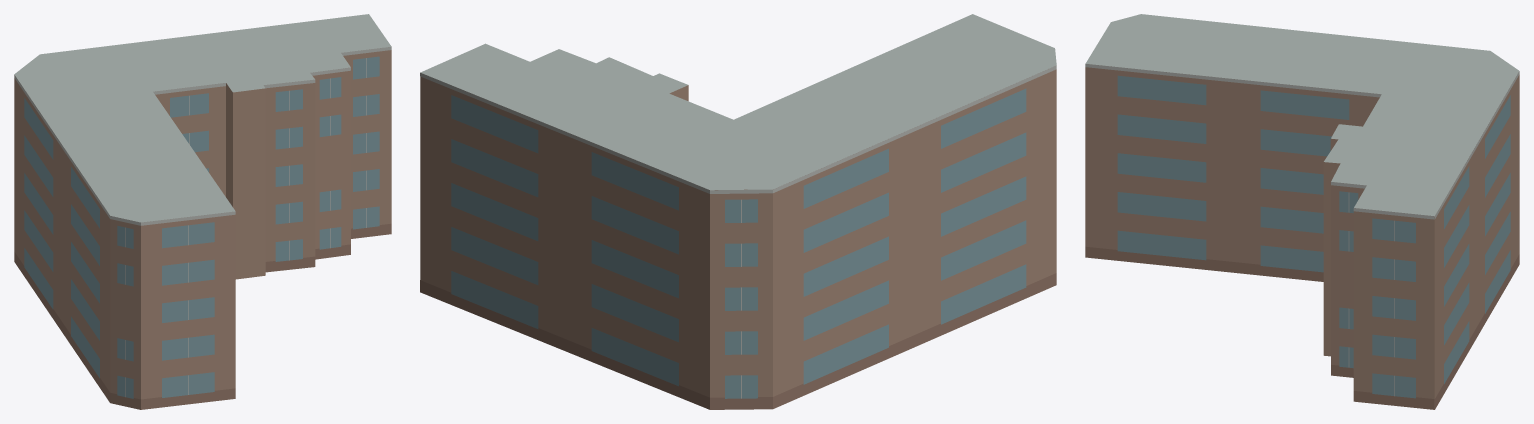
File: survey-upis-32871060.glb
3 renders of one model, left to right at view 1: azimuth 30°, elevation 25°; view 2: azimuth 150°, elevation 25°; view 3: azimuth 270°, elevation 25°, orthographic. The views are drawn at different scales.
Visible parts, largest first — view 1: survey-upis-32871060.tmp; view 2: survey-upis-32871060.tmp; view 3: survey-upis-32871060.tmp.
Part boxes in pixels (x1=…): survey-upis-32871060.tmp: x1=14, y1=14, x2=391, y2=409; survey-upis-32871060.tmp: x1=420, y1=14, x2=1056, y2=409; survey-upis-32871060.tmp: x1=1085, y1=14, x2=1519, y2=409.
Size of the model in its own units: 31.12 by 13.9 by 28.24.
